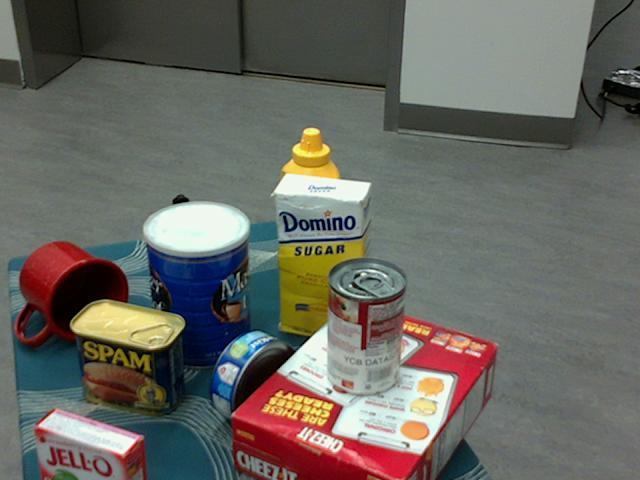cracker_box: (231, 300, 498, 479)
gelatin_box: (32, 405, 144, 479)
large_marker: (172, 193, 192, 292)
master_chef_can: (142, 201, 250, 371)
mug: (18, 240, 128, 344)
mustard_bottle: (279, 127, 339, 303)
potted_meat_can: (69, 298, 184, 414)
sugar_box: (274, 172, 371, 346)
tomato_soup_can: (324, 259, 406, 397)
tuna_fish_can: (209, 331, 297, 429)
